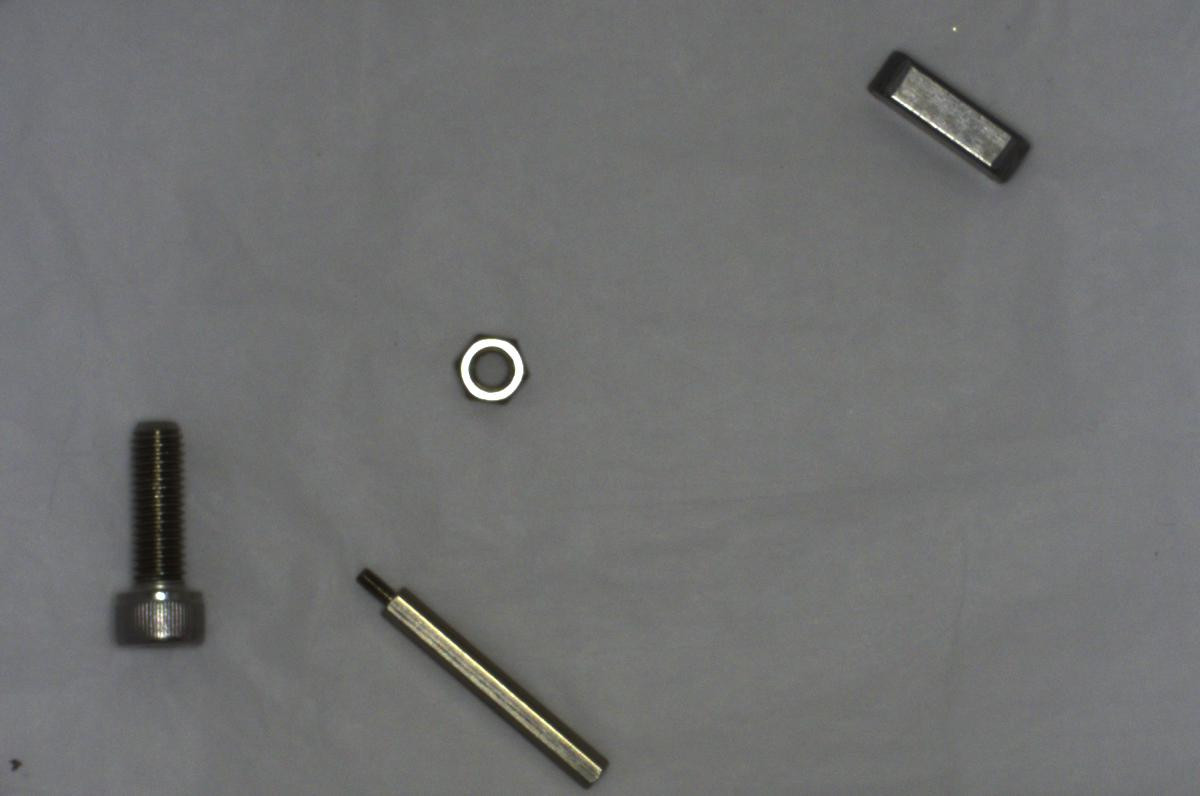Hexagon nut: (442, 325, 538, 408)
Hexagon screw: (107, 415, 214, 656)
Hexagonal steel column: (348, 562, 615, 785)
Keybar: (862, 49, 1031, 187)
